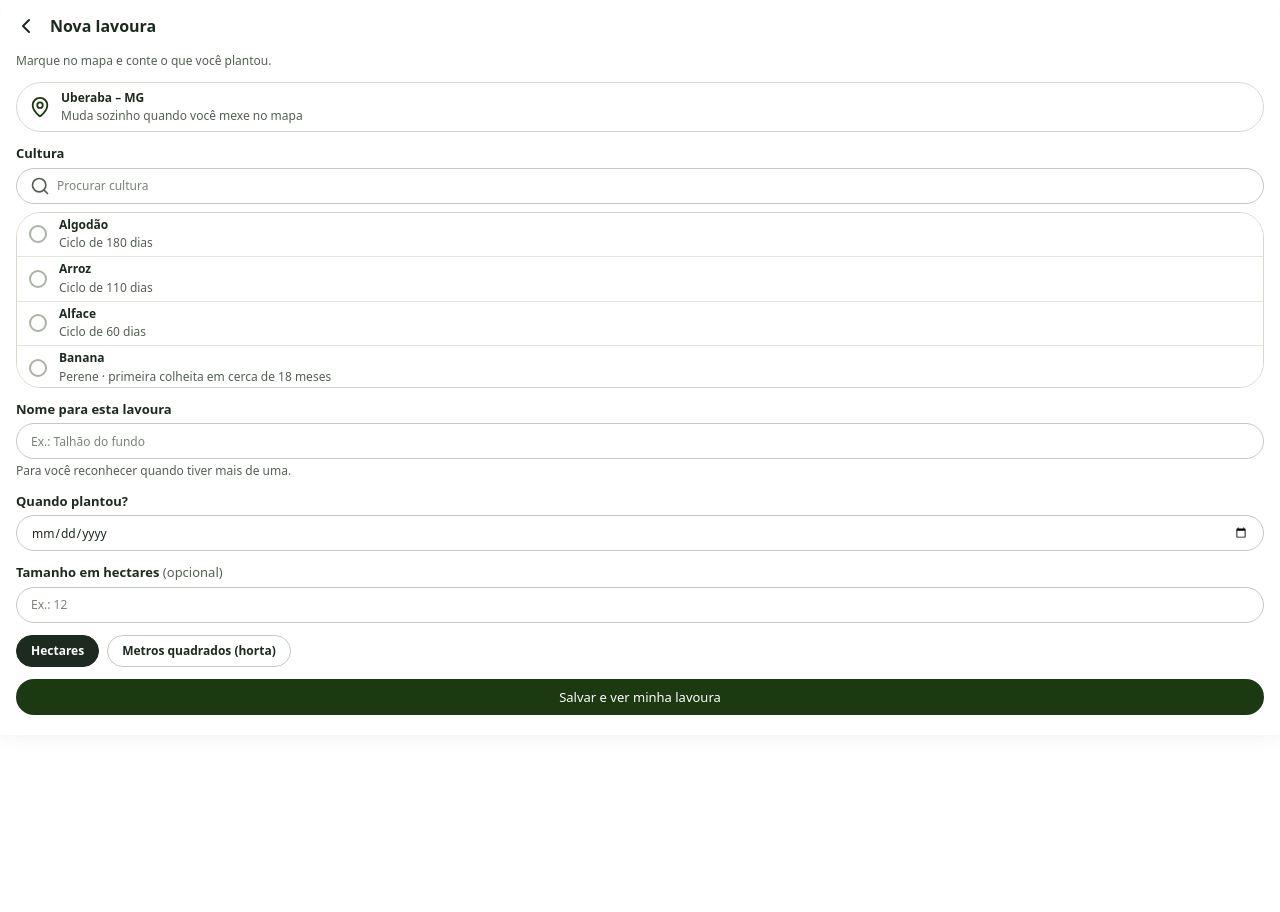
it: Nova lavoura no celular › procura a cultura sem ligar para acento
This screenshot has width=1280, height=912.
Expected: the heading "Nova lavoura" is shown, x1=50 y1=15 x2=156 y2=37
In the search field labelled "Procurar cultura": (640, 186) x1=16 y1=168 x2=1264 y2=204, type "algodao"
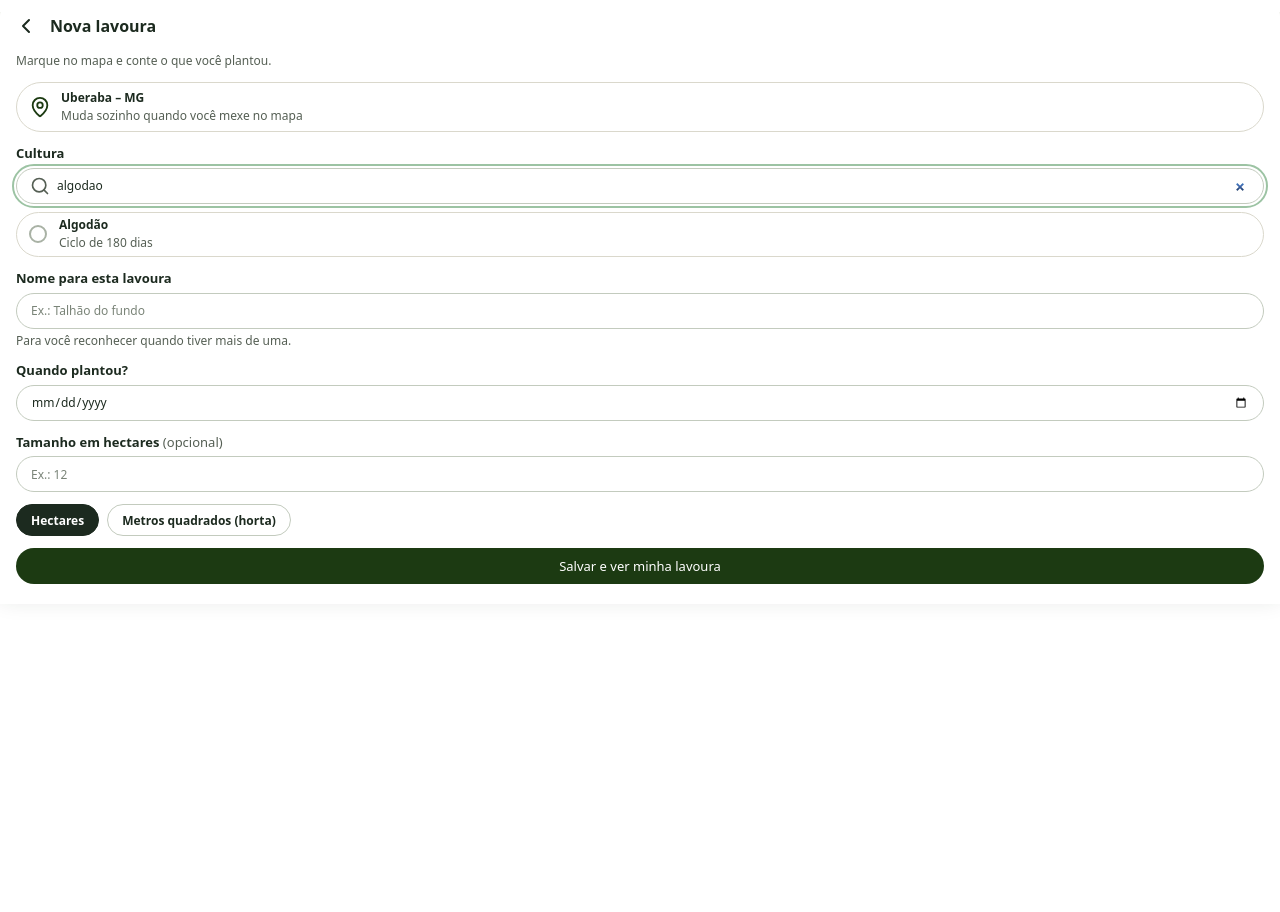
Expected: the number of radio buttons is 1, x1=29 y1=225 x2=47 y2=243
Replace the text in the search field named "Procurar cultura" with "uva": (640, 186) x1=16 y1=168 x2=1264 y2=204
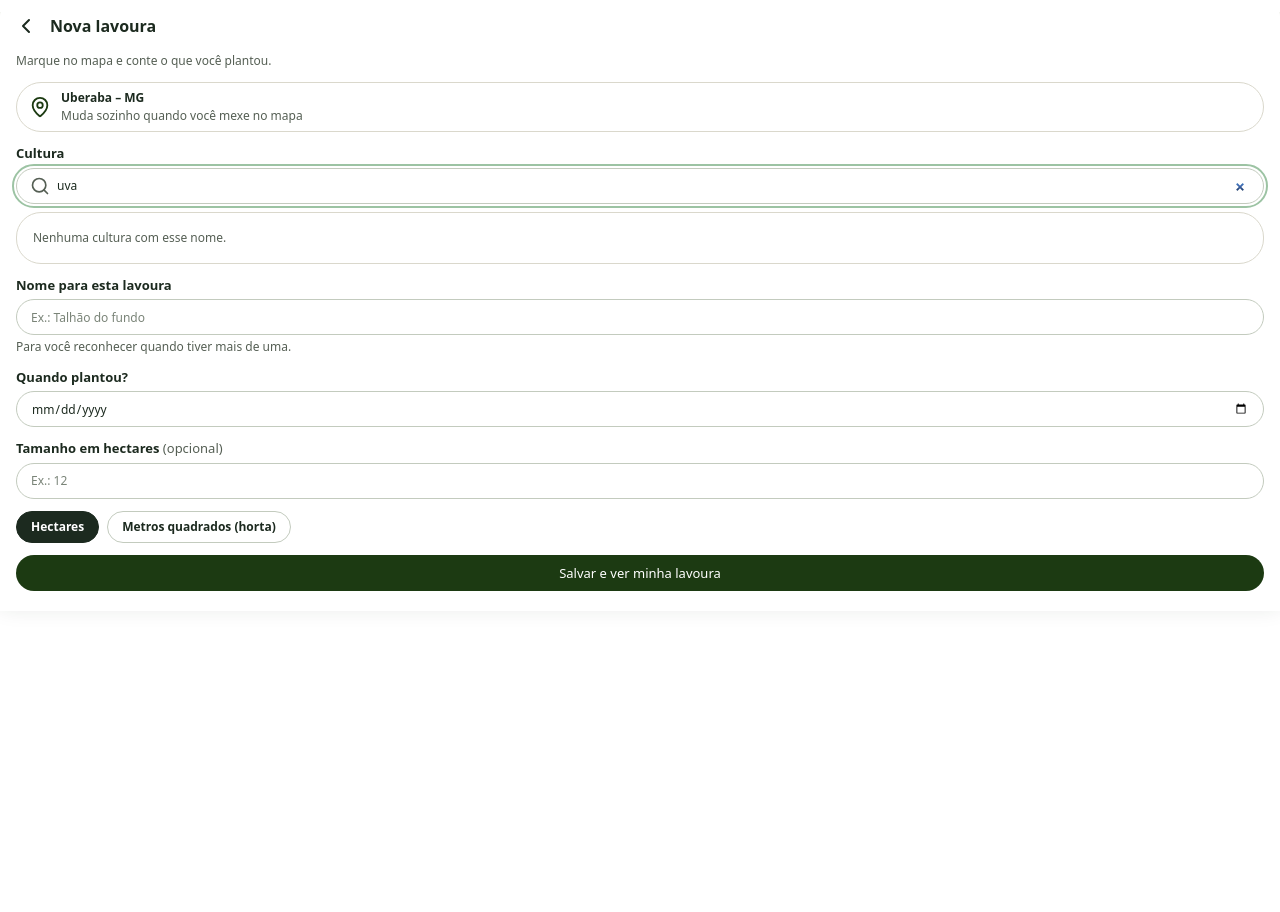
Expected: the text "Nenhuma cultura com esse nome." is shown, x1=33 y1=228 x2=226 y2=246
